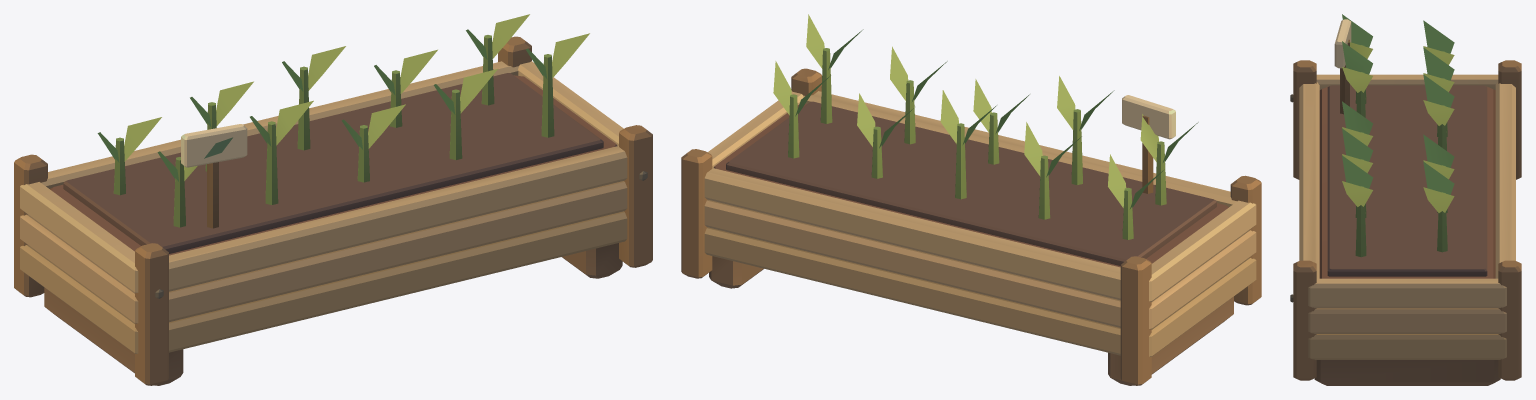
Rendered from town_planter.glb.
3 views of the same model, side by side, from view 1: azimuth 30°, elevation 25°; view 2: azimuth 150°, elevation 25°; view 3: azimuth 270°, elevation 25° (orthographic). The views are drawn at different scales.
Parts seen in each view (by area): view 1: Linas Pflanzkisten; view 2: Linas Pflanzkisten; view 3: Linas Pflanzkisten.
Part boxes in pixels (<box>): Linas Pflanzkisten: <box>14,14,652,385</box>; Linas Pflanzkisten: <box>681,14,1261,385</box>; Linas Pflanzkisten: <box>1290,14,1521,385</box>.
Bounding box in the file's own units: 1.72 × 0.76 × 0.7969.
